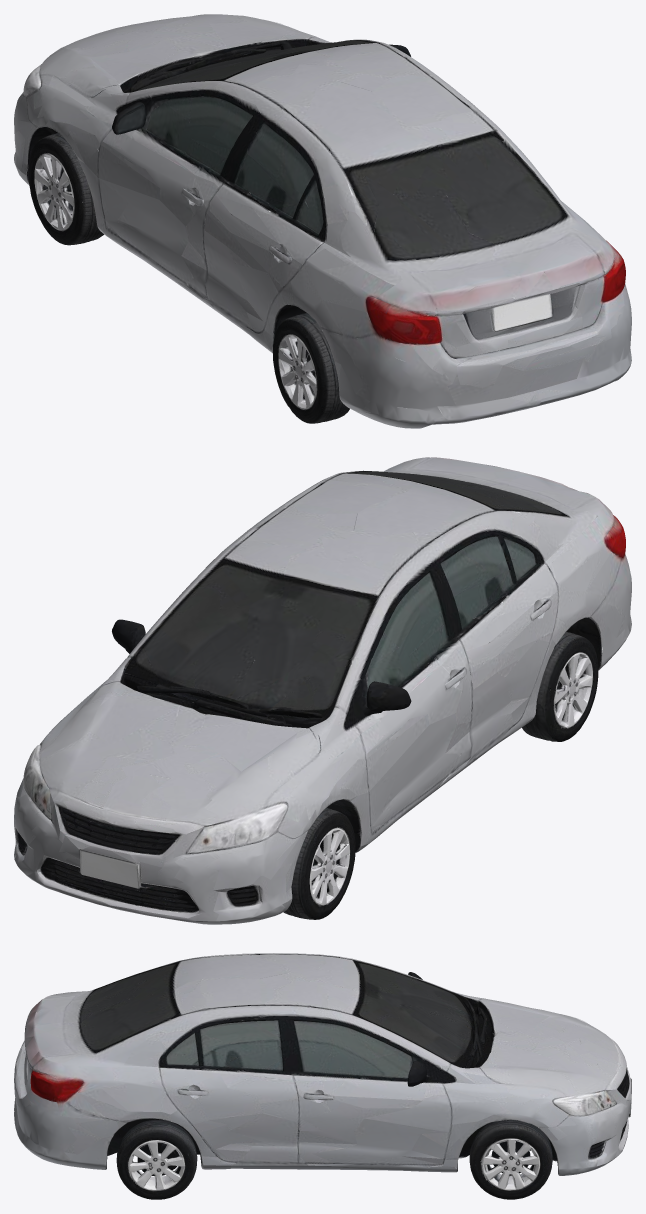
File: e4sedan.glb
3 views of the same model, one above another, from view 1: azimuth 30°, elevation 25°; view 2: azimuth 150°, elevation 25°; view 3: azimuth 270°, elevation 25° (orthographic). The views are drawn at different scales.
Parts seen in each view (by area): view 1: output_unwrapped; view 2: output_unwrapped; view 3: output_unwrapped.
Boxes of the visible parts, x1,y1,x2,y2 form: output_unwrapped: [14, 14, 631, 428]; output_unwrapped: [14, 457, 631, 924]; output_unwrapped: [14, 953, 631, 1199].
Size of the model in its own units: 1.78 by 1.39 by 4.4.
Materials: 1 (1 with a texture image).
